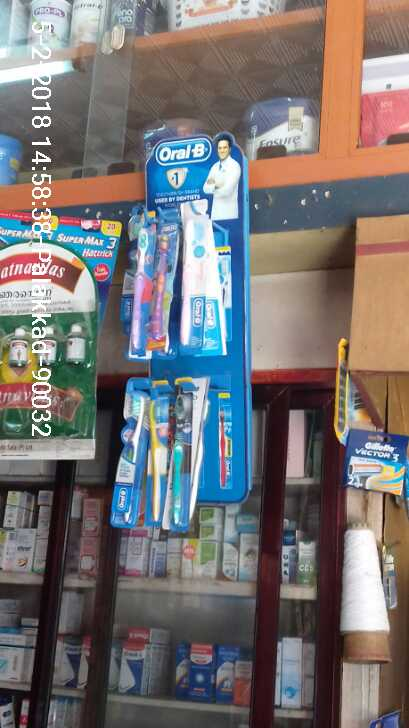oralb: (176, 205, 218, 357), (107, 368, 144, 526), (120, 211, 153, 361), (166, 384, 193, 528), (146, 389, 167, 529)
